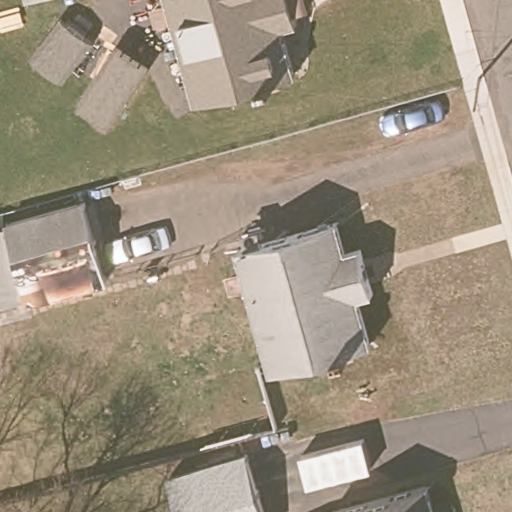DT: (470, 75, 490, 125)
